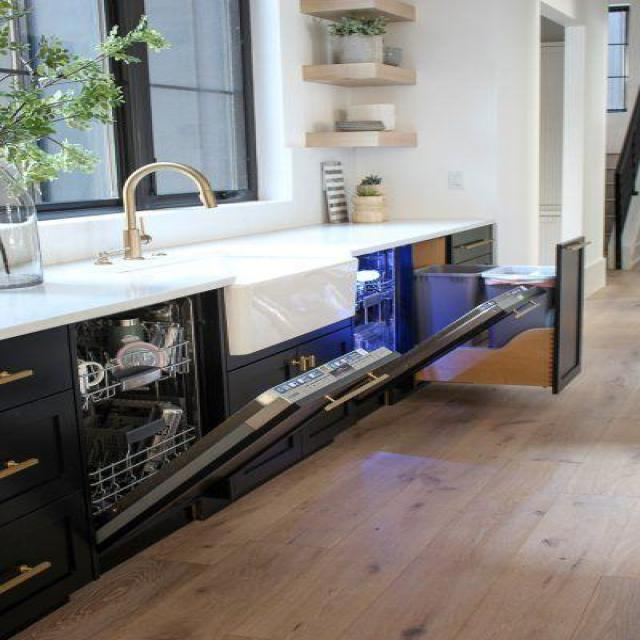dishwasher: (64, 314, 407, 557)
